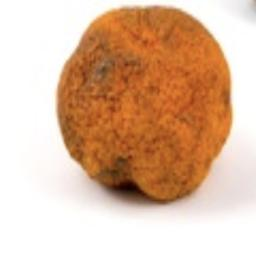Orange Rotten: (0, 0, 256, 253)
